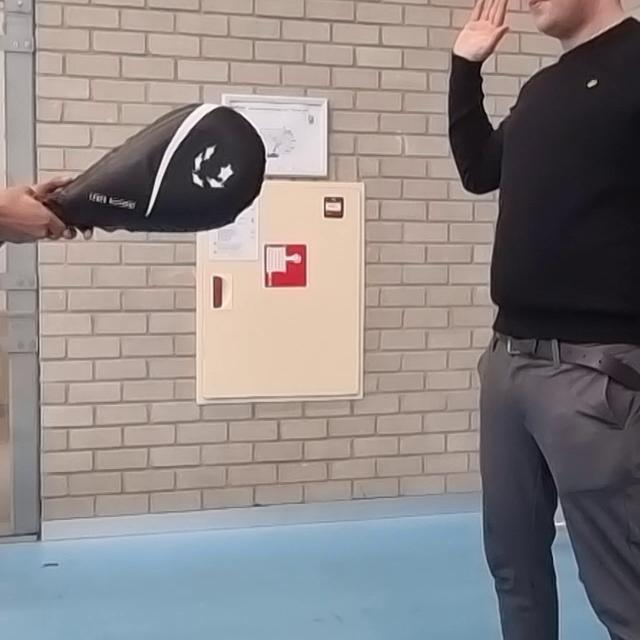paddle: (46, 103, 268, 232)
